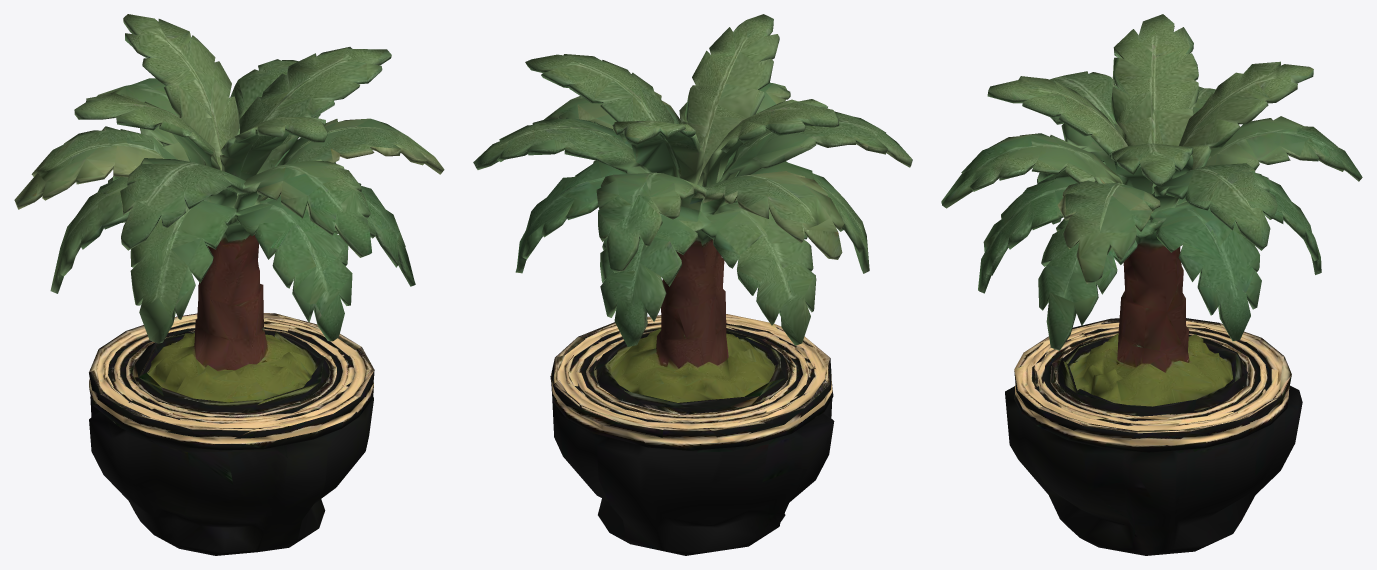
File: palm.glb
3 views of the same model, side by side, from view 1: azimuth 30°, elevation 25°; view 2: azimuth 150°, elevation 25°; view 3: azimuth 270°, elevation 25° (orthographic). The views are drawn at different scales.
Parts seen in each view (by area): view 1: Mesh_0; view 2: Mesh_0; view 3: Mesh_0.
Boxes of the visible parts, x1,y1,x2,y2 form: Mesh_0: (14,14,444,555); Mesh_0: (473,14,912,555); Mesh_0: (941,14,1362,555).
Bounding box in the file's own units: 1.77 × 2.1 × 1.82.
1 material, 1 textured.
